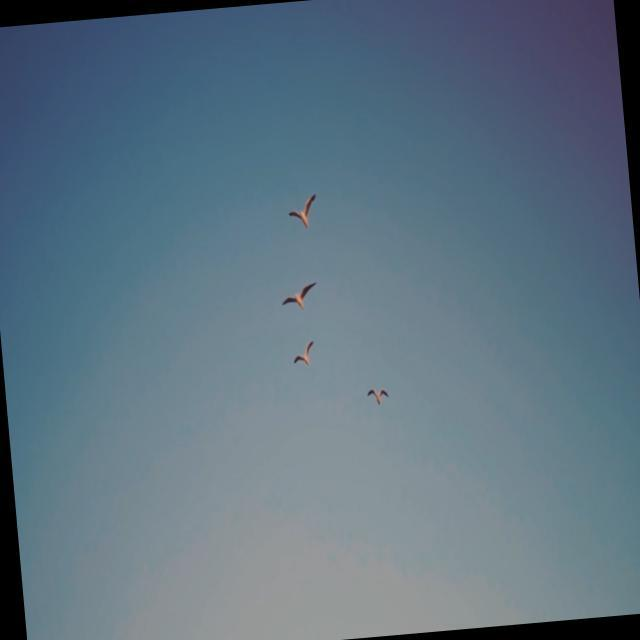bird: (278, 277, 321, 314), (286, 191, 322, 233), (292, 338, 319, 369), (366, 384, 391, 408)
